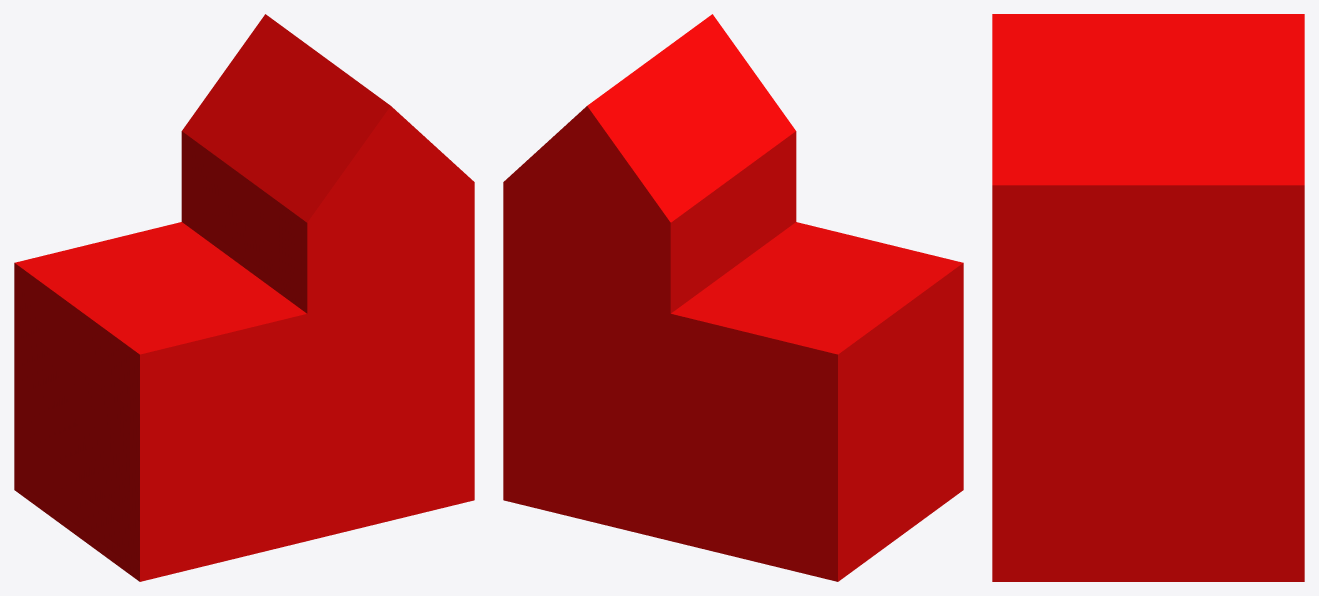
File: City_Red.fbx
3 views of the same model, side by side, from view 1: azimuth 30°, elevation 25°; view 2: azimuth 150°, elevation 25°; view 3: azimuth 270°, elevation 25° (orthographic). The views are drawn at different scales.
Visible parts, largest first — view 1: redCity; view 2: redCity; view 3: redCity.
Part boxes in pixels (box(x1,y1,x2,y2)): redCity: box(14, 14, 474, 581); redCity: box(503, 14, 963, 581); redCity: box(992, 14, 1304, 581).
Bounding box in the file's own units: 308 × 365 × 200.
